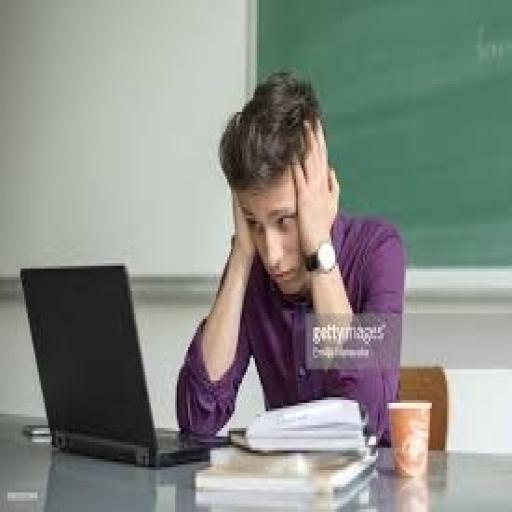using_laptop: (19, 260, 216, 467)
